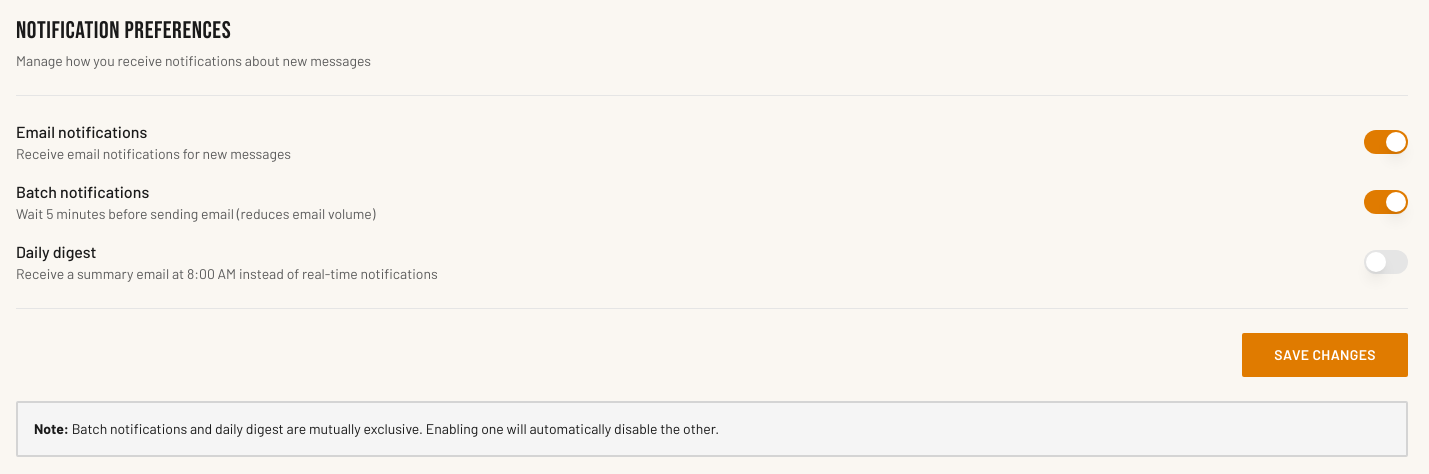
NotificationsSettingsPage › Toggling Preferences › should disable batch when digest is enabled
Expected: the heading "Notification Preferences" is shown, [16,16,231,45]
What coordinates should you click on to do the following:
click the 3rd switch named "daily digest"
I would click on:
 (1386, 262)
Its box is [1364,250,1408,274].
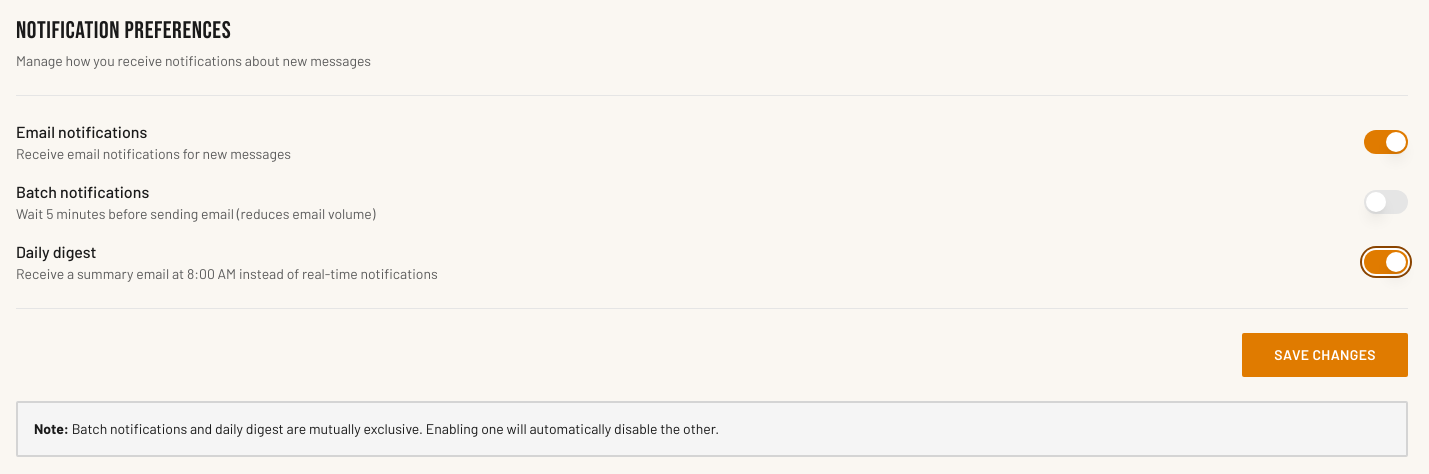
Result: the 2nd switch named "batch notifications" is not checked at [1364,190,1408,214]
